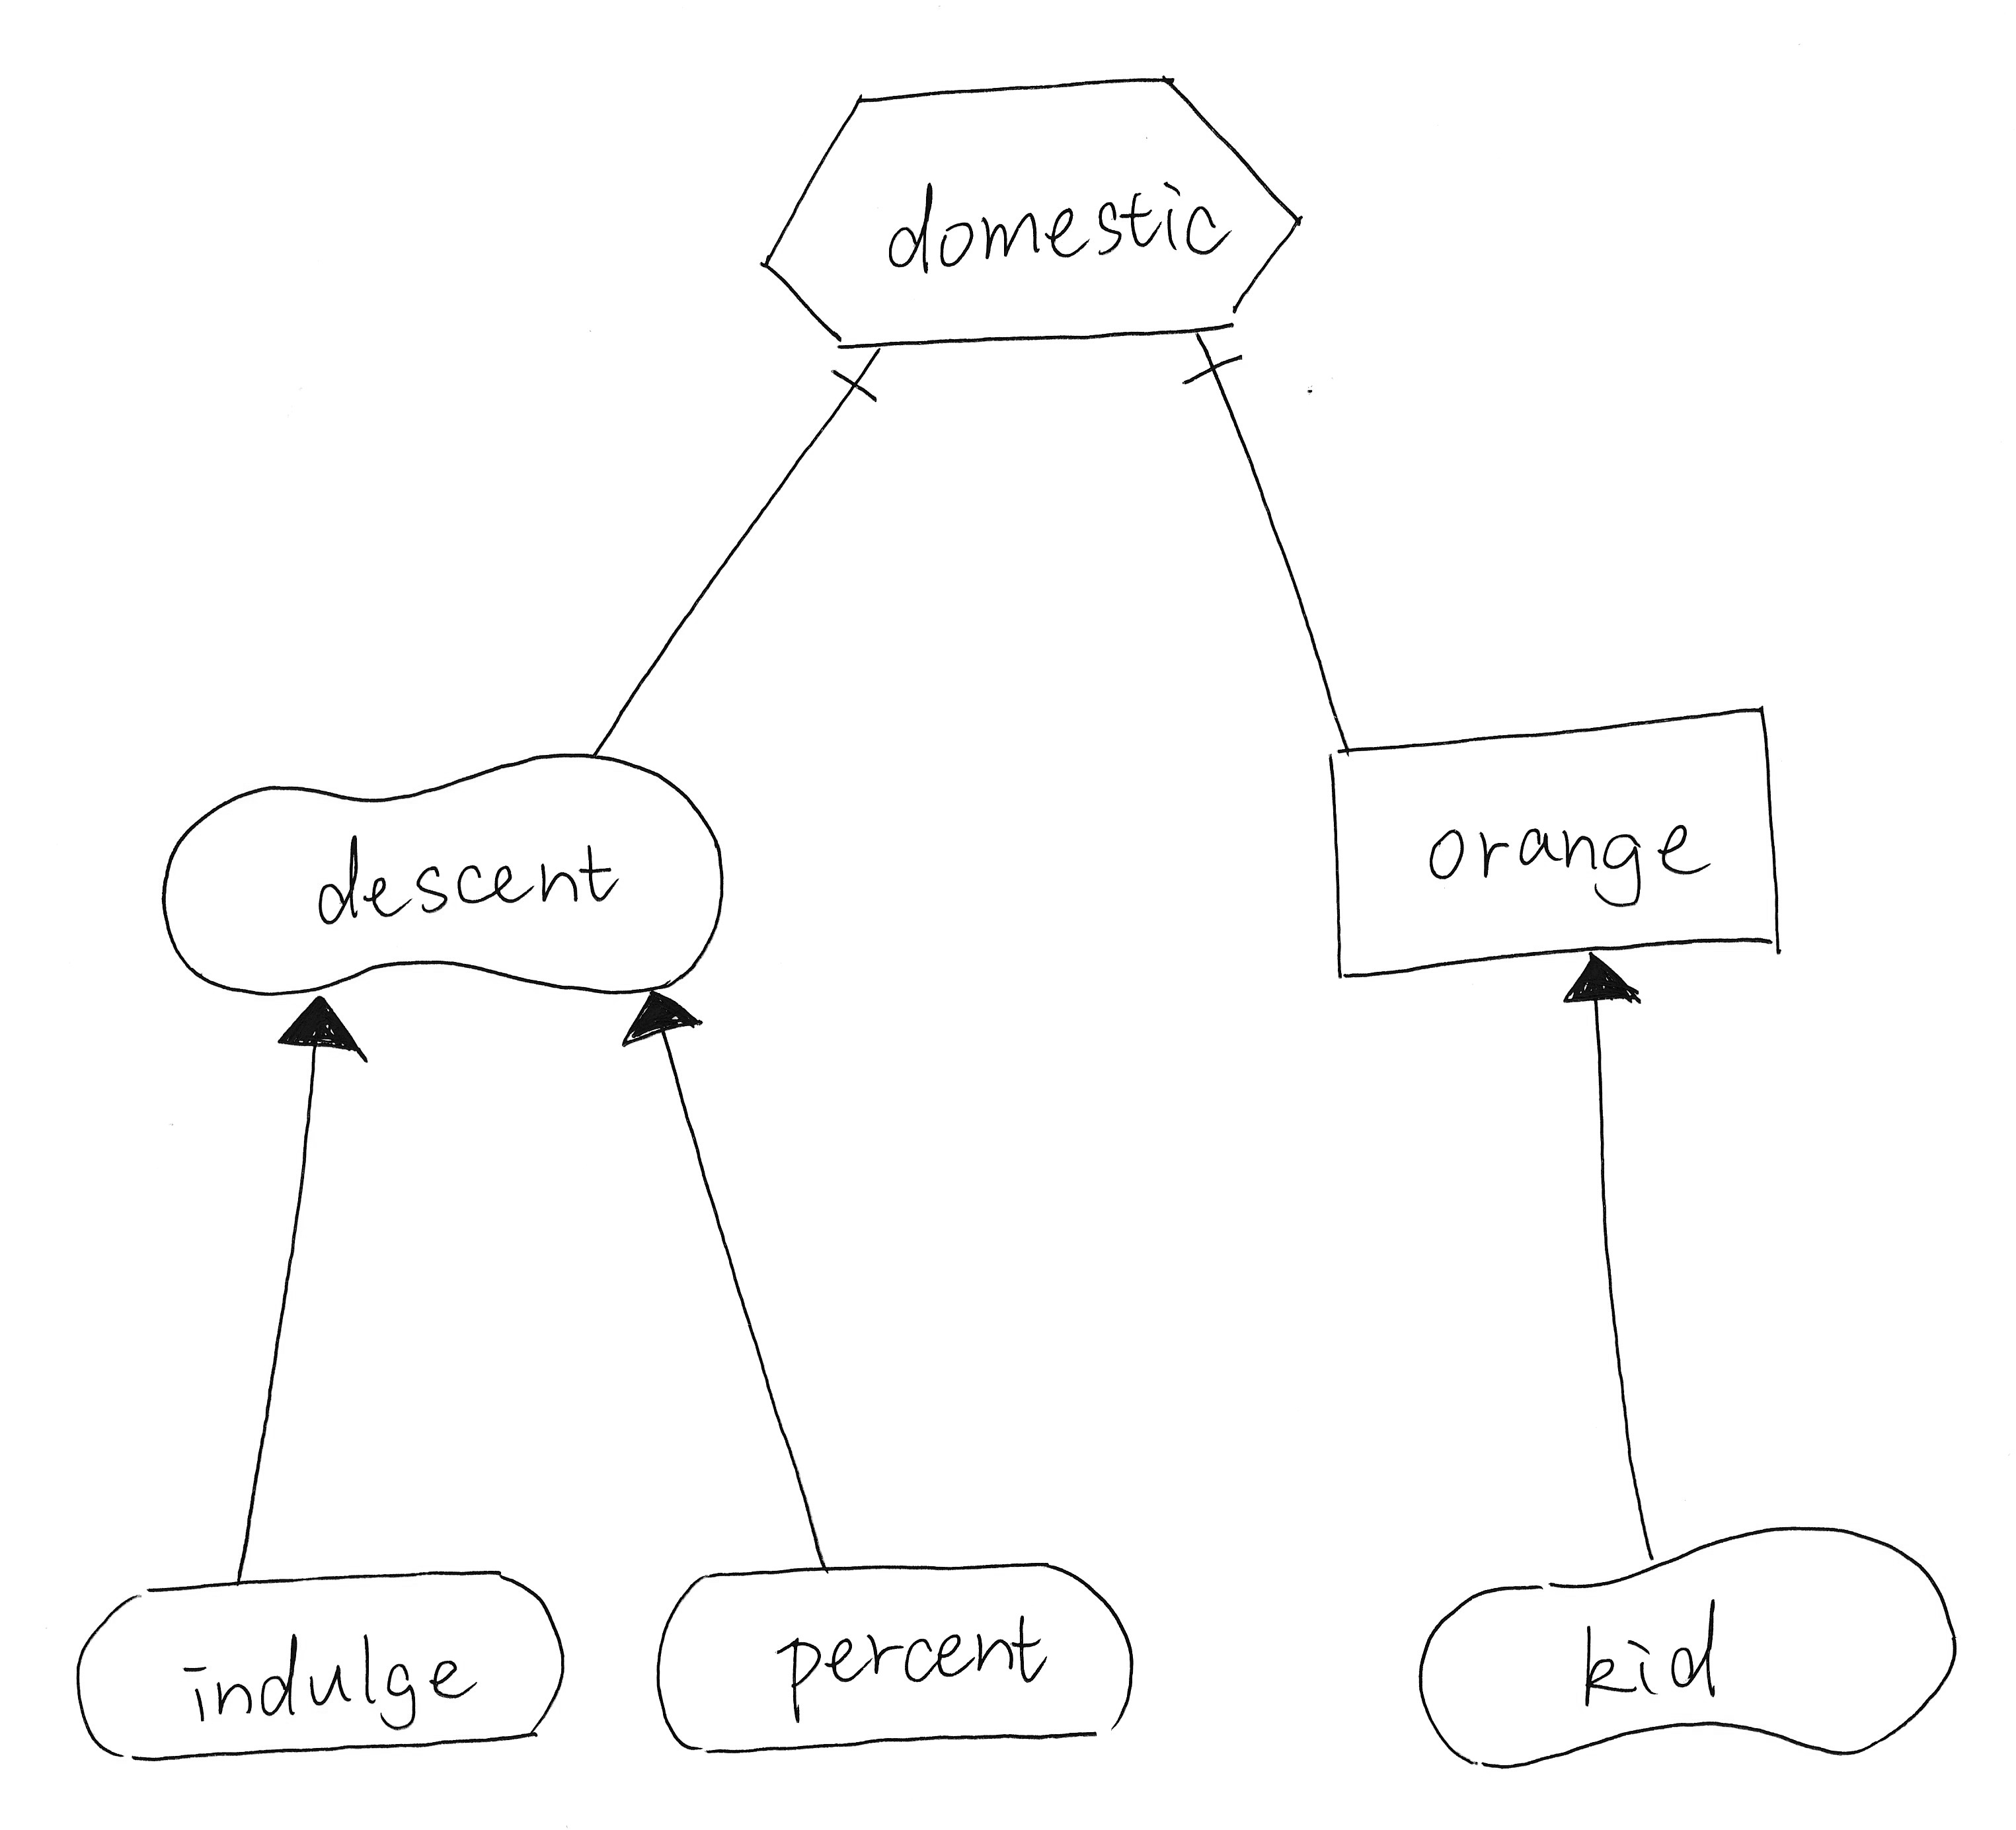and: (1173, 334, 1257, 406), (824, 349, 889, 429)
goal: (54, 1547, 588, 1772), (637, 1547, 1154, 1770)
or: (270, 978, 372, 1073), (1556, 943, 1661, 1029), (615, 985, 711, 1057)
quality: (139, 724, 746, 1006), (1398, 1502, 1976, 1786)
resource: (1301, 688, 1800, 1003)
task: (745, 46, 1315, 365)
